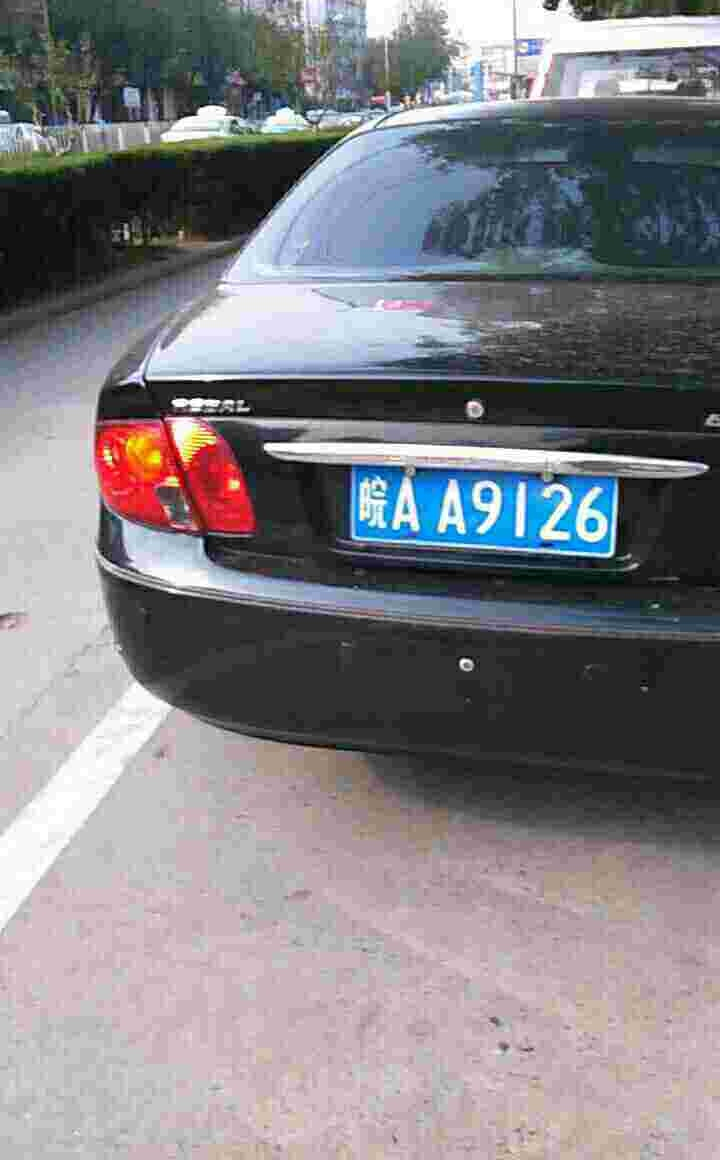license_plate: (349, 460, 625, 559)
